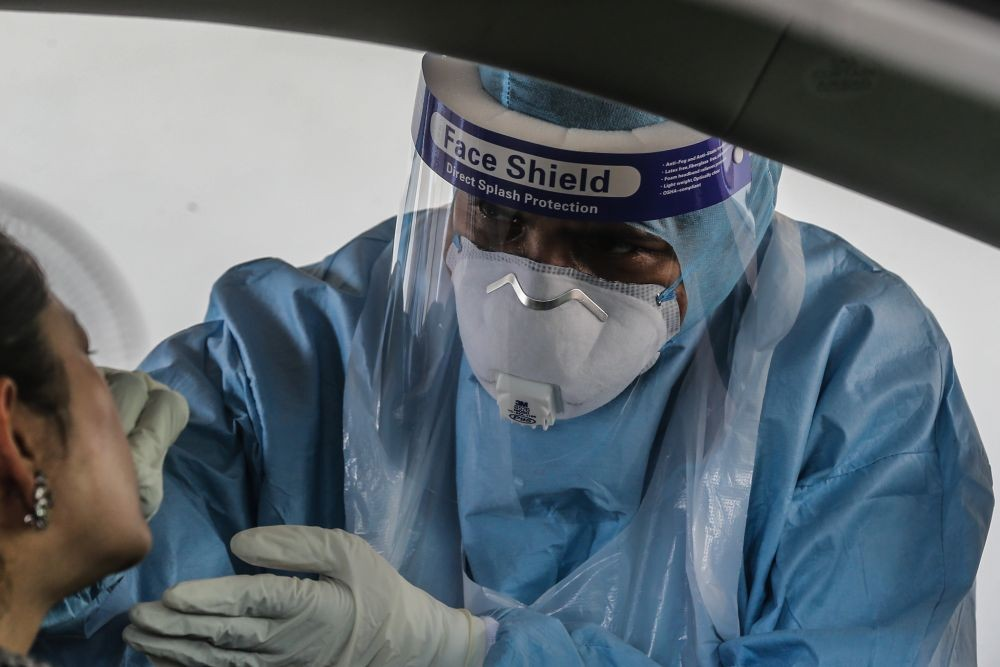Coverall: (154, 186, 998, 667)
Face_Shield: (396, 50, 774, 517)
Gloves: (107, 516, 547, 667), (95, 348, 206, 517)
with_mask: (456, 197, 678, 427)
